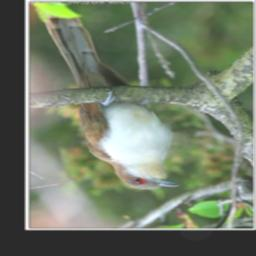Cuckoo: (37, 3, 181, 191)
